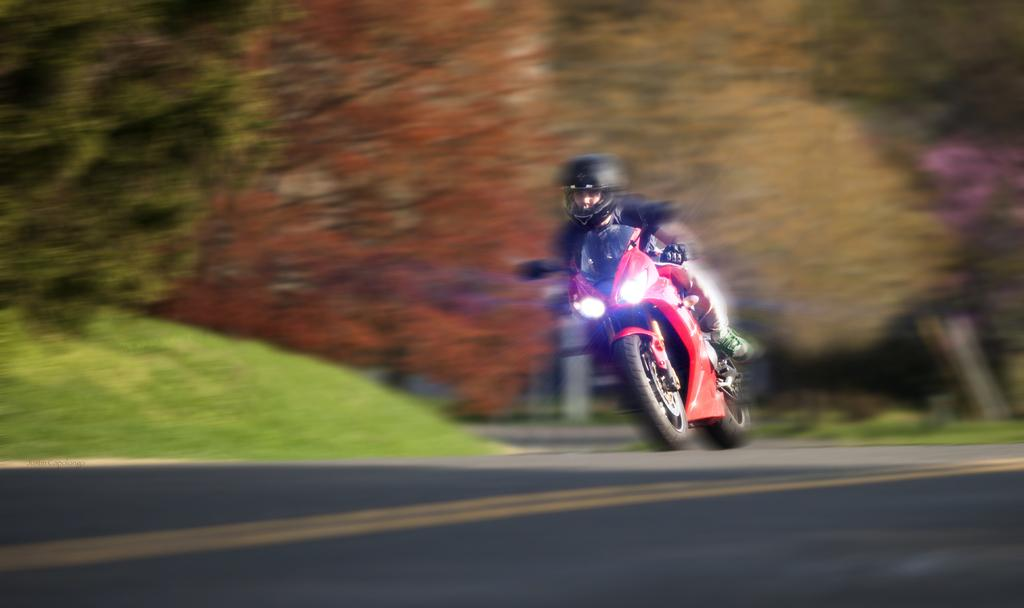helmet: (558, 154, 621, 228)
